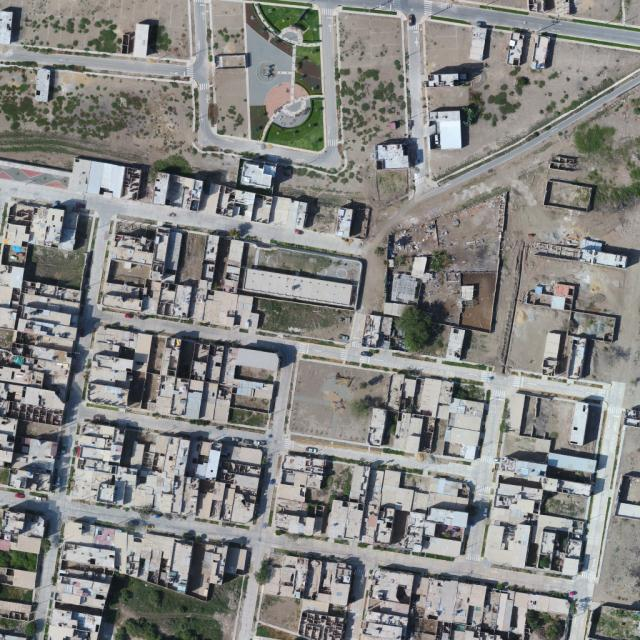building: (273, 453, 474, 560), (69, 421, 264, 527), (84, 324, 240, 426), (57, 517, 196, 594), (483, 482, 591, 577), (243, 267, 354, 308), (216, 185, 308, 231), (2, 201, 80, 254), (530, 230, 631, 268), (363, 568, 415, 640), (69, 157, 144, 203), (101, 273, 177, 317), (187, 233, 224, 323), (187, 541, 229, 601), (152, 171, 205, 211), (0, 511, 47, 554), (54, 575, 110, 610), (524, 282, 577, 311), (109, 233, 155, 265), (392, 412, 425, 455), (202, 289, 238, 328), (222, 239, 247, 294), (428, 110, 461, 149), (498, 456, 548, 480), (149, 228, 171, 281), (233, 294, 263, 332), (546, 452, 597, 474), (235, 347, 281, 371), (375, 138, 409, 170), (240, 161, 277, 189), (418, 377, 443, 417), (0, 566, 38, 591), (569, 401, 590, 446), (390, 272, 418, 304), (541, 332, 561, 376), (568, 336, 588, 379), (367, 407, 388, 447), (505, 392, 525, 433), (361, 314, 384, 349), (386, 372, 406, 412), (385, 372, 405, 412), (163, 231, 183, 271), (237, 379, 274, 400), (224, 547, 248, 577), (445, 426, 481, 446), (172, 285, 193, 318), (333, 207, 354, 239), (531, 35, 550, 70), (33, 67, 52, 102), (556, 479, 592, 497), (449, 399, 485, 417), (505, 32, 524, 66), (443, 441, 477, 460), (0, 601, 32, 621), (446, 327, 465, 359), (469, 26, 486, 61), (133, 22, 149, 57), (449, 414, 481, 431), (427, 74, 459, 87), (411, 255, 428, 279), (439, 380, 454, 405), (616, 503, 640, 518), (383, 302, 407, 316), (402, 378, 416, 399), (379, 316, 393, 336), (540, 478, 558, 491), (461, 285, 474, 301), (436, 405, 450, 419), (161, 273, 175, 283)
dryland: (0, 65, 198, 180), (386, 186, 506, 332), (289, 360, 390, 445), (22, 205, 94, 291), (246, 242, 364, 286), (251, 296, 353, 344), (593, 515, 640, 606), (177, 232, 207, 287), (259, 594, 301, 631), (106, 258, 152, 289), (619, 426, 640, 474)
greenland: (385, 299, 457, 369), (0, 618, 27, 637), (22, 618, 40, 639)
metalled_road: (253, 435, 476, 553), (273, 530, 578, 600), (183, 325, 298, 438), (573, 380, 631, 598), (454, 383, 517, 564), (0, 43, 188, 80), (236, 544, 269, 640), (570, 593, 593, 640)
